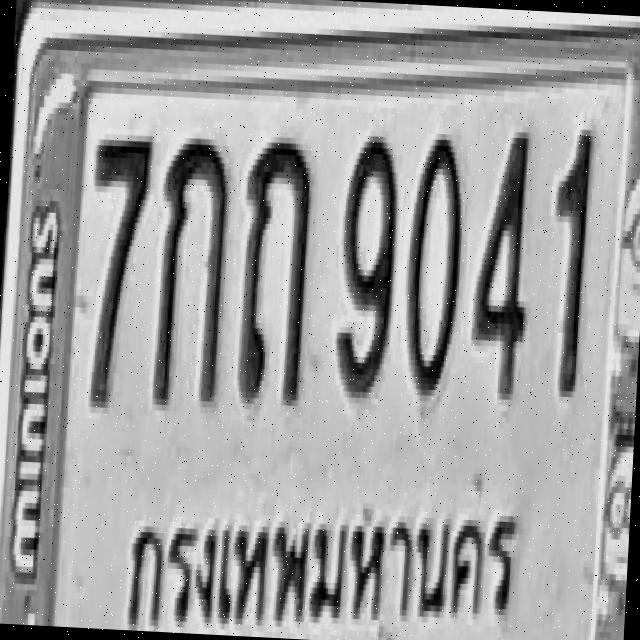0: (401, 127, 468, 397)
1: (546, 123, 596, 398)
10GorGai: (152, 128, 232, 406)
31ThorThung: (236, 130, 316, 406)
4: (469, 121, 536, 398)
7: (82, 128, 154, 410)
9: (334, 126, 401, 396)
Bangkok: (117, 484, 521, 640)
